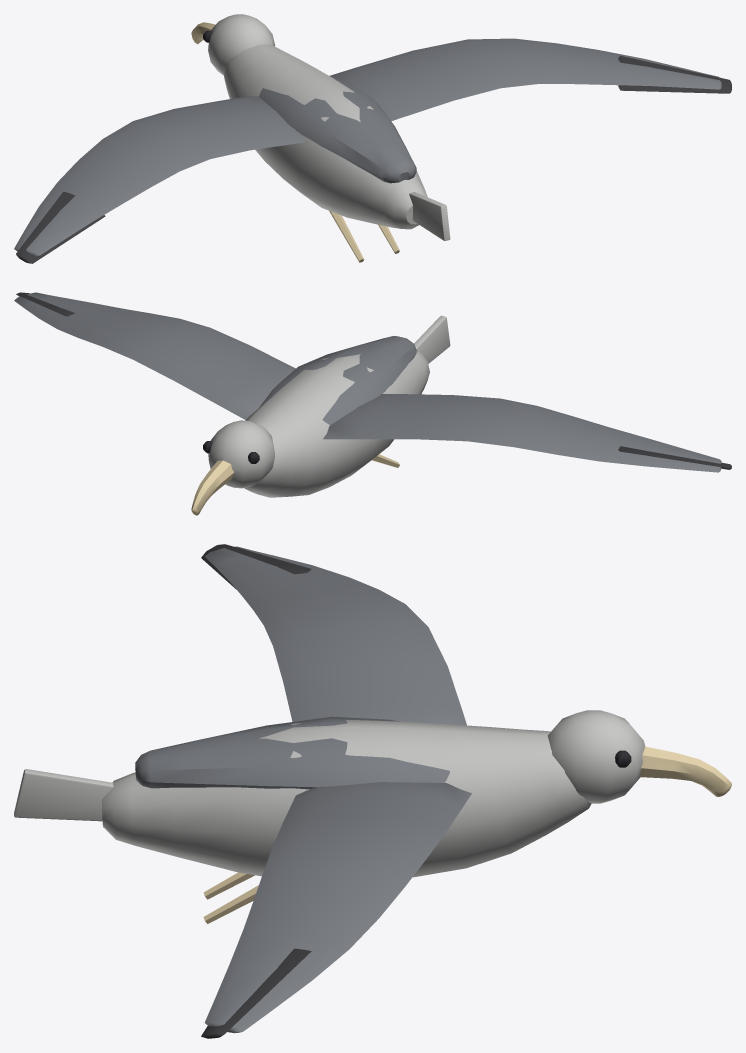
The model's file is sea_squallbeak.gltf.
3 views of the same model, one above another, from view 1: azimuth 30°, elevation 25°; view 2: azimuth 150°, elevation 25°; view 3: azimuth 270°, elevation 25° (orthographic). The views are drawn at different scales.
Parts seen in each view (by area): view 1: Body, WingL, WingR; view 2: Body, WingL, WingR; view 3: Body, WingR, WingL.
Part boxes in pixels (x1=…): Body: x1=191, y1=14, x2=450, y2=262; WingL: x1=14, y1=96, x2=304, y2=263; WingR: x1=329, y1=38, x2=731, y2=121; Body: x1=191, y1=315, x2=450, y2=515; WingL: x1=323, y1=394, x2=731, y2=472; WingR: x1=14, y1=292, x2=295, y2=419; Body: x1=14, y1=710, x2=731, y2=923; WingR: x1=201, y1=782, x2=471, y2=1038; WingL: x1=201, y1=544, x2=466, y2=725.
Size of the model in its own units: 3.2 by 0.5983 by 1.98.
